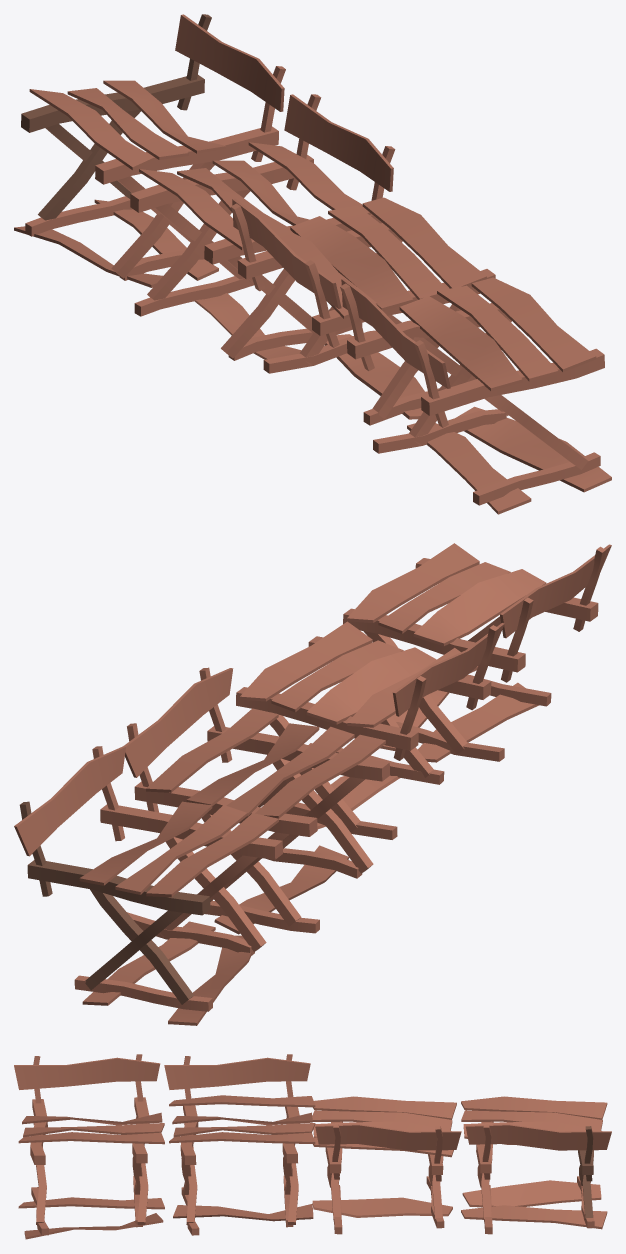
File: BrugvoorAxeltje.fbx
3 views of the same model, one above another, from view 1: azimuth 30°, elevation 25°; view 2: azimuth 150°, elevation 25°; view 3: azimuth 270°, elevation 25° (orthographic). The views are drawn at different scales.
Parts seen in each view (by area): view 1: polySurface4155; view 2: polySurface4155; view 3: polySurface4155.
Part boxes in pixels (bbox=[...]): polySurface4155: bbox=[14, 14, 611, 514]; polySurface4155: bbox=[14, 543, 611, 1025]; polySurface4155: bbox=[14, 1054, 611, 1239].
Bounding box in the file's own units: 29.4 × 28.93 × 114.
